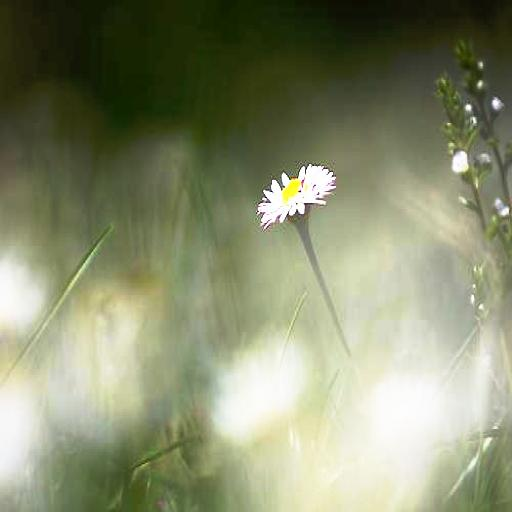daisy: (245, 162, 338, 229)
